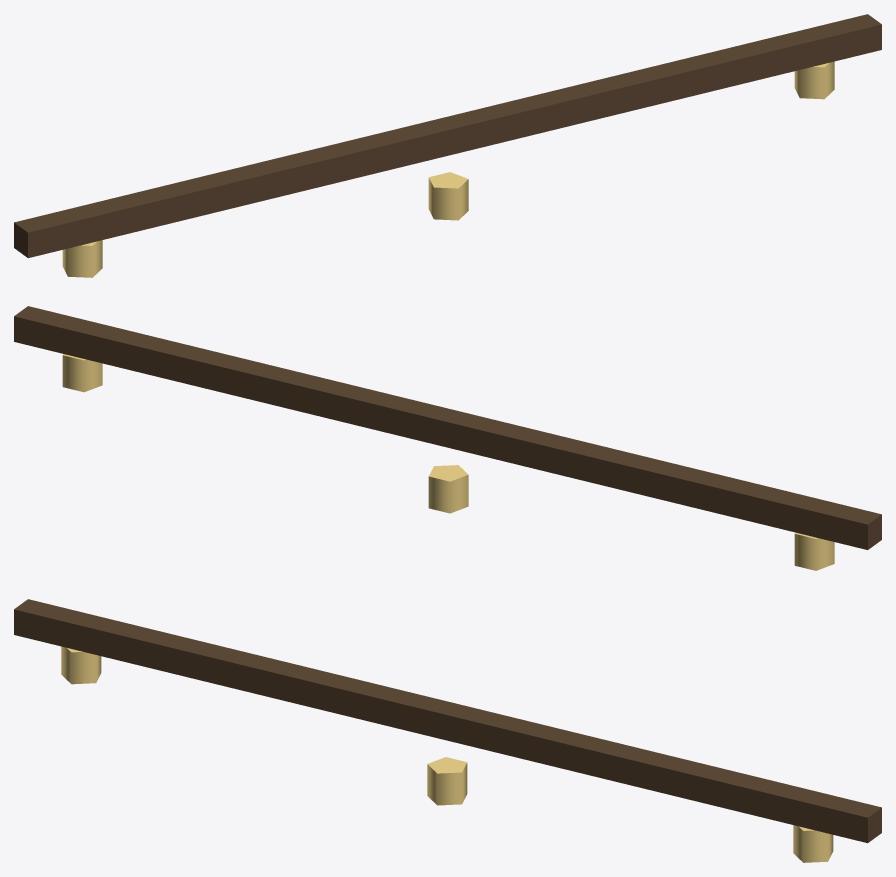
Rendered from light_string.glb.
3 renders of one model, top to bottom at view 1: azimuth 30°, elevation 25°; view 2: azimuth 150°, elevation 25°; view 3: azimuth 330°, elevation 25°, orthographic.
Parts seen in each view (by area): view 1: light_string; view 2: light_string; view 3: light_string.
Part boxes in pixels (x1,y1,x2,y2): light_string: [14, 14, 881, 277]; light_string: [14, 306, 881, 570]; light_string: [14, 599, 881, 862].
Bounding box in the file's own units: 1.4 × 0.14 × 0.0543.
